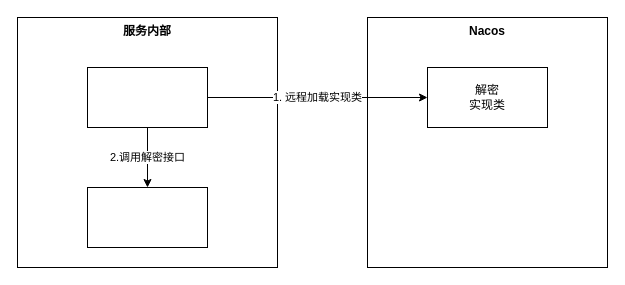
This 625x285 diagram has some shape labels left out. Here are the shapes that lost their labels. From the top down, the centre of each, then its label:
(x=147, y=97): Framework
(x=147, y=217): 解密 接口类
